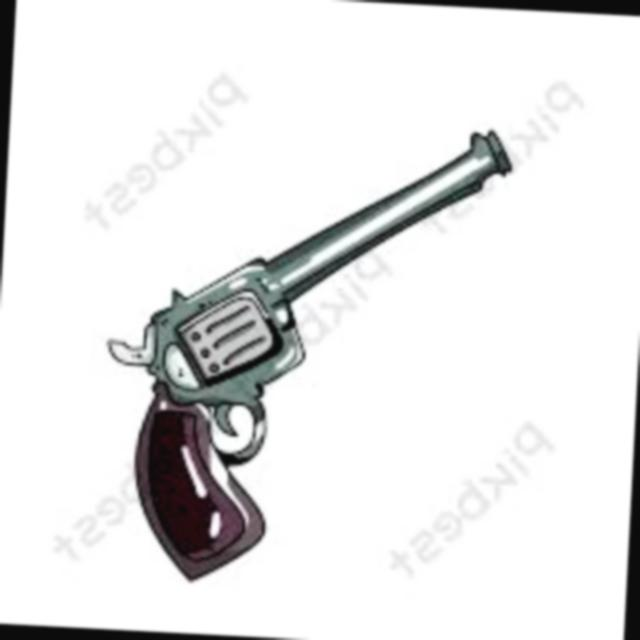semi automatic: (82, 92, 532, 606)
